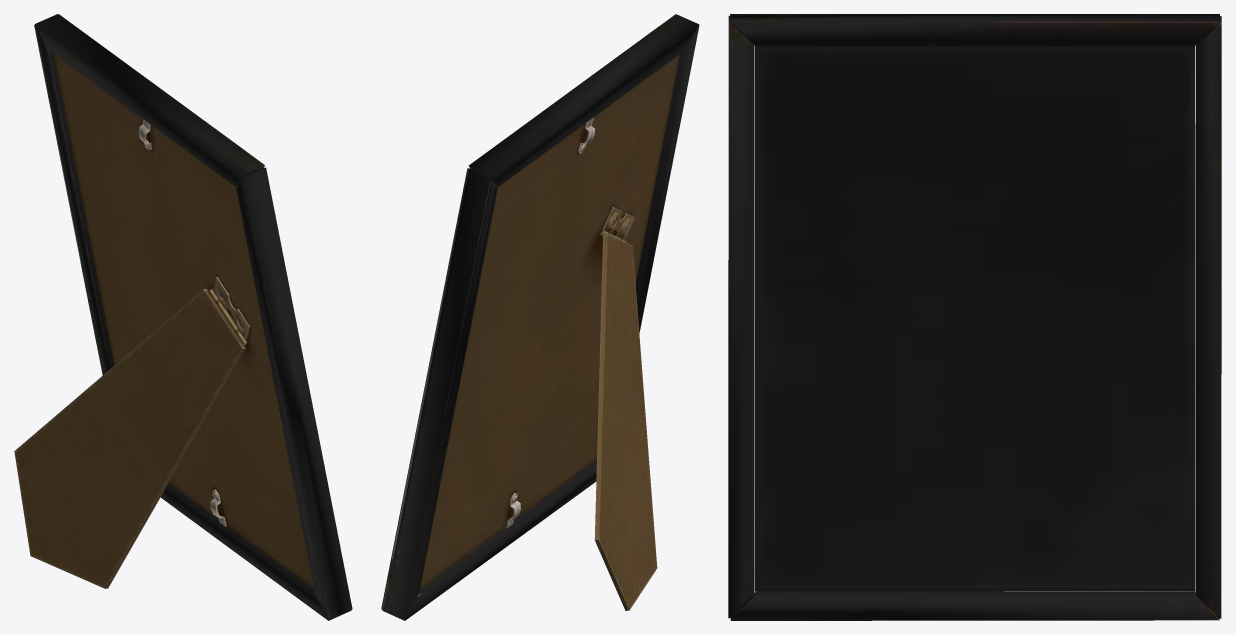
File: standing_picture_frame_01.glb
3 views of the same model, side by side, from view 1: azimuth 30°, elevation 25°; view 2: azimuth 150°, elevation 25°; view 3: azimuth 270°, elevation 25° (orthographic). The views are drawn at different scales.
Parts seen in each view (by area): view 1: standing_picture_frame_01; view 2: standing_picture_frame_01; view 3: standing_picture_frame_01.
Part boxes in pixels (x1,y1,x2,y2): standing_picture_frame_01: [14, 14, 352, 620]; standing_picture_frame_01: [381, 14, 699, 620]; standing_picture_frame_01: [728, 14, 1221, 620].
Bounding box in the file's own units: 0.1003 × 0.2496 × 0.2004.
Materials: 3 (3 with a texture image).
